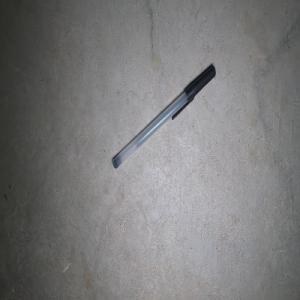Pen: (112, 65, 215, 168)
